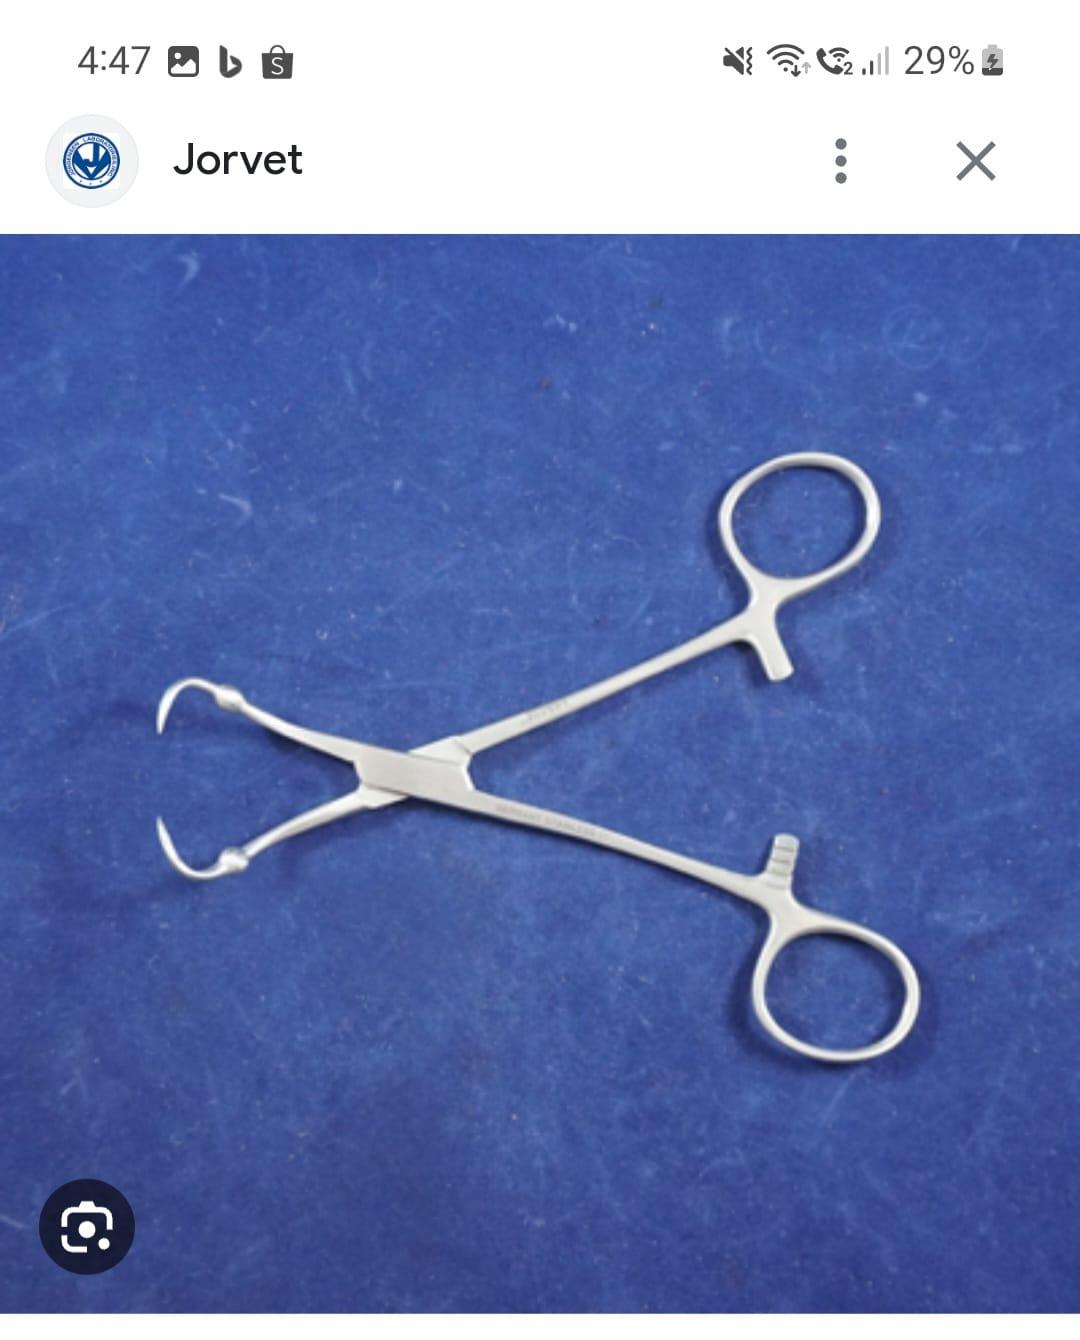Backhaus: (144, 430, 938, 1082)
